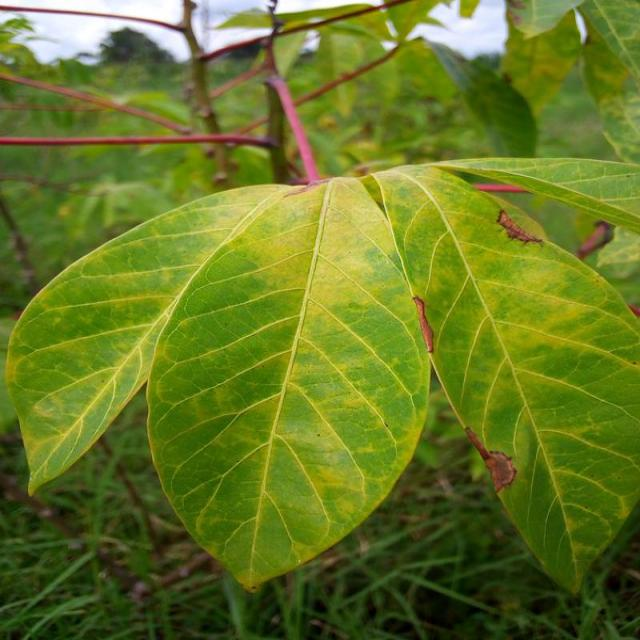cassava leaf: (4, 158, 638, 596), (360, 160, 639, 594), (144, 174, 432, 592), (4, 179, 306, 498)
